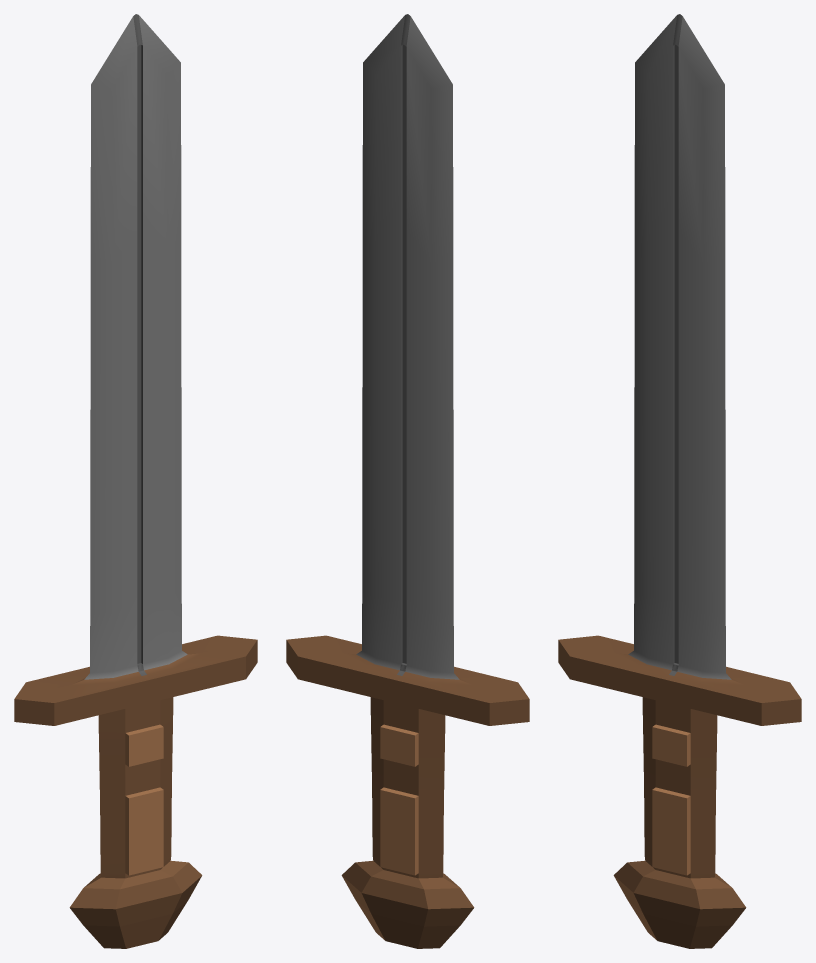
Rendered from Sword.fbx.
The picture shows the model from 3 angles, left to right: view 1: azimuth 30°, elevation 25°; view 2: azimuth 150°, elevation 25°; view 3: azimuth 330°, elevation 25°; orthographic projection.
Visible parts, largest first — view 1: Sword; view 2: Sword; view 3: Sword.
Boxes of the visible parts, box(x1,y1,x2,y2) form: Sword: box(14, 14, 257, 948); Sword: box(286, 14, 529, 948); Sword: box(558, 14, 801, 948).
Size of the model in its own units: 7.78 by 28.31 by 1.58.
